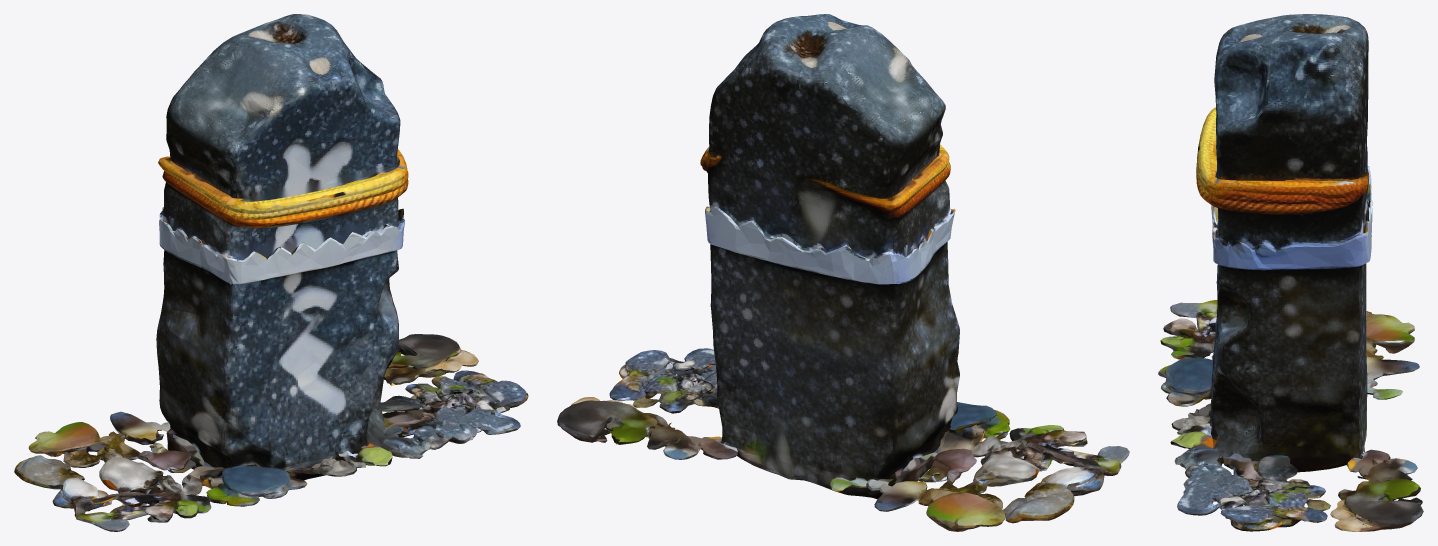
File: phoenix_north_road_trail_stele.glb
3 views of the same model, side by side, from view 1: azimuth 30°, elevation 25°; view 2: azimuth 150°, elevation 25°; view 3: azimuth 270°, elevation 25° (orthographic). The views are drawn at different scales.
Parts seen in each view (by area): view 1: temp_mesh.ply; view 2: temp_mesh.ply; view 3: temp_mesh.ply.
Part boxes in pixels (<box>): temp_mesh.ply: <box>14,14,528,531</box>; temp_mesh.ply: <box>557,14,1129,531</box>; temp_mesh.ply: <box>1158,14,1423,531</box>.
Bounding box in the file's own units: 1.98 × 1.7 × 0.9462.
Materials: 1 (1 with a texture image).
